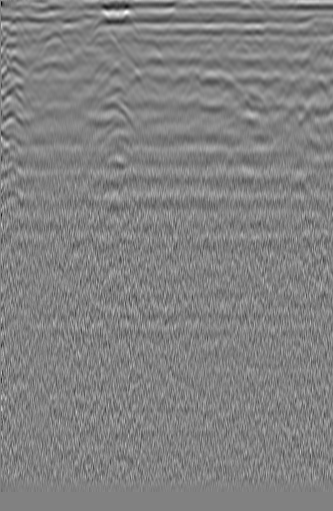가스: (84, 96, 134, 143)
상수: (1, 14, 32, 55)
오수: (290, 18, 327, 55)
우수: (135, 33, 168, 56)
